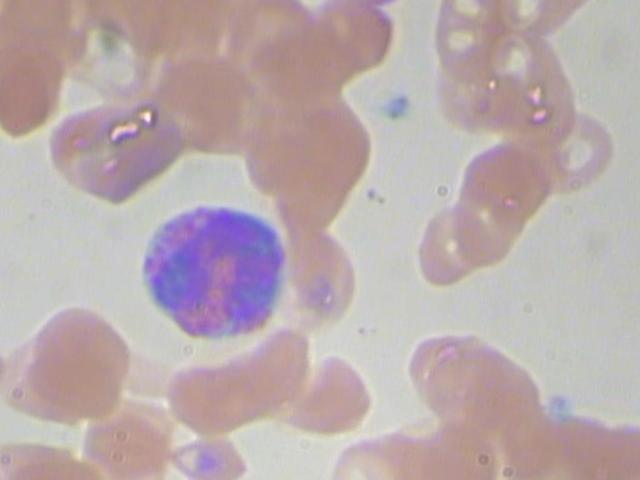Platelets: (378, 89, 417, 131)
RBC: (6, 291, 148, 433), (271, 215, 375, 333), (516, 99, 625, 203), (279, 341, 382, 447), (397, 193, 500, 299)
WBC: (120, 186, 305, 358)
